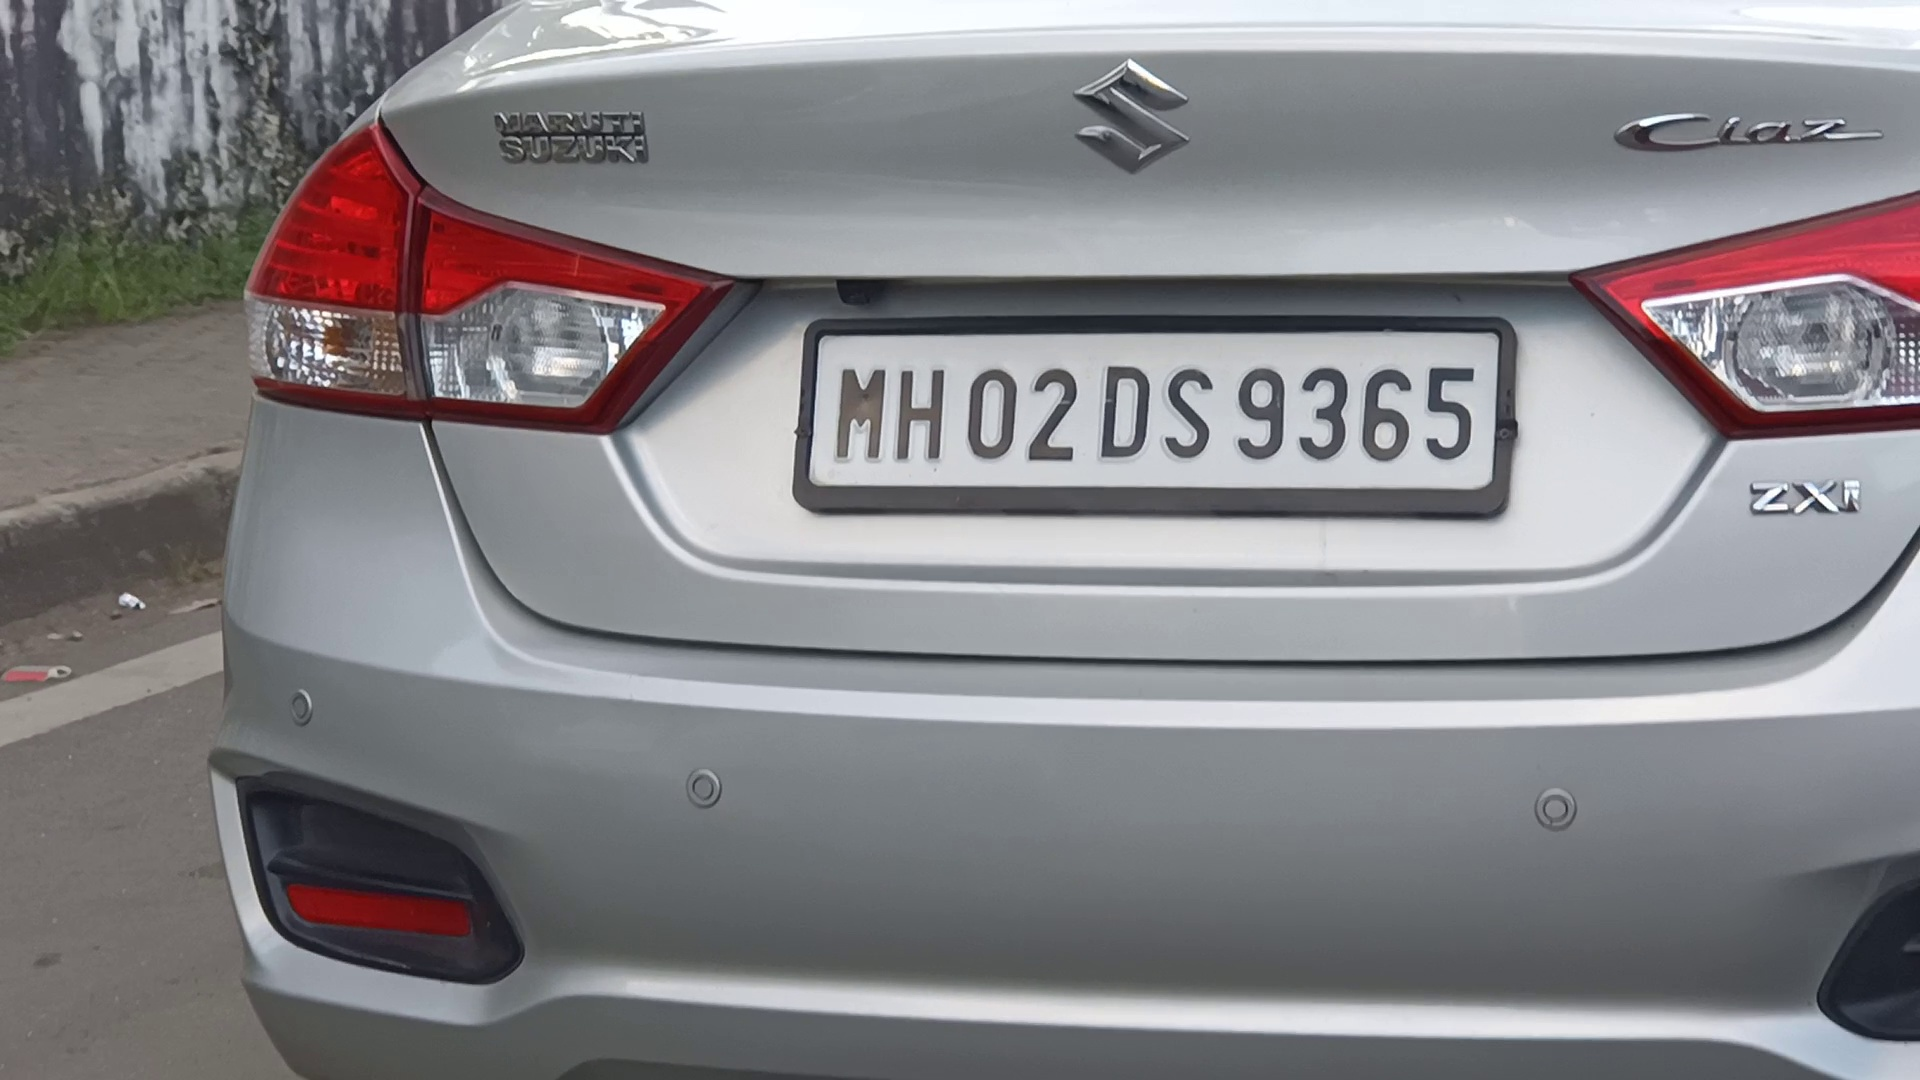MH02DS9365: (809, 332, 1496, 491)
